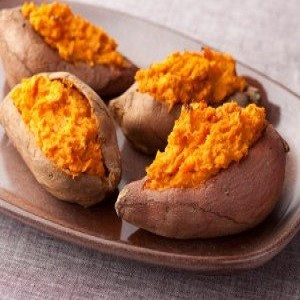sweet potato_brain food: (148, 130, 253, 224), (16, 90, 120, 175)
